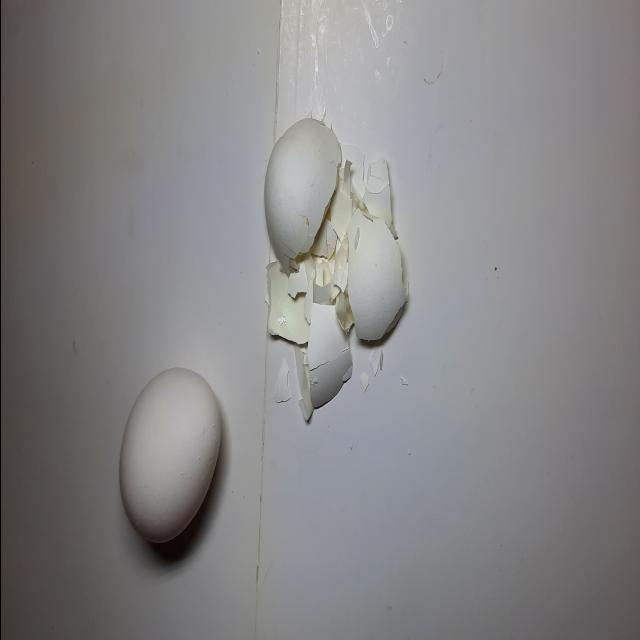egg shell: (112, 349, 232, 566), (257, 102, 342, 268), (348, 208, 412, 351), (294, 305, 361, 422), (264, 264, 313, 339), (356, 155, 391, 218)
